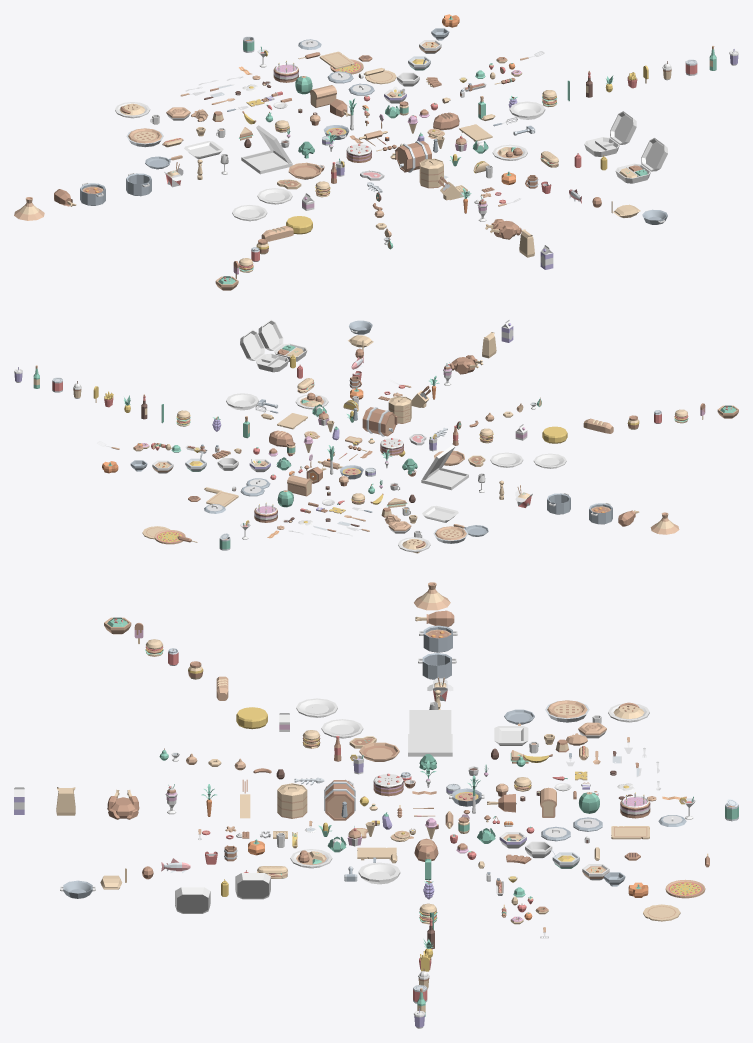
Rendered from food2.fbx.
The picture shows the model from 3 angles, top to bottom: view 1: azimuth 30°, elevation 25°; view 2: azimuth 150°, elevation 25°; view 3: azimuth 270°, elevation 25°; orthographic projection. The views are drawn at different scales.
Parts seen in each view (by area): view 1: styrofoamDinner, styrofoam, pizzaBox, barrel, steamer, pie, potStew, pot, plateDeep, turkey, loaf, plateRectangle (+4 smaller); view 2: styrofoam, pizzaBox, styrofoamDinner, barrel, steamer, pie, pot, potStew, plateDeep, loaf, turkey, plateRectangle (+3 smaller); view 3: pizzaBox, barrel, steamer, styrofoamDinner, styrofoam, potStew, pie, pot, plateDeep, turkey.
Boxes of the visible parts, <box> form: styrofoamDinner: <box>615,138,667,183</box>; styrofoam: <box>584,111,636,156</box>; pizzaBox: <box>241,125,292,174</box>; barrel: <box>395,141,431,172</box>; steamer: <box>419,158,443,188</box>; pie: <box>126,128,163,147</box>; potStew: <box>80,182,105,205</box>; pot: <box>126,173,151,196</box>; plateDeep: <box>509,101,545,119</box>; turkey: <box>485,219,521,239</box>; loaf: <box>310,85,336,107</box>; plateRectangle: <box>184,141,223,159</box>; styrofoam: <box>240,329,288,372</box>; pizzaBox: <box>421,445,468,490</box>; styrofoamDinner: <box>258,319,307,361</box>; barrel: <box>362,407,397,436</box>; steamer: <box>388,396,411,423</box>; pie: <box>433,526,468,543</box>; pot: <box>547,493,570,514</box>; potStew: <box>589,502,612,524</box>; plateDeep: <box>226,393,258,410</box>; loaf: <box>287,475,312,496</box>; turkey: <box>450,355,482,374</box>; plateRectangle: <box>422,505,458,522</box>; pizzaBox: <box>408,710,452,756</box>; barrel: <box>324,780,355,820</box>; steamer: <box>277,783,307,818</box>; styrofoamDinner: <box>175,887,210,913</box>; styrofoam: <box>235,873,270,899</box>; potStew: <box>419,625,457,652</box>; pie: <box>545,700,589,722</box>; pot: <box>418,653,456,679</box>; plateDeep: <box>358,862,400,884</box>; turkey: <box>107,789,139,819</box>.
Bounding box in the file's own units: 2088 × 197 × 1543.
